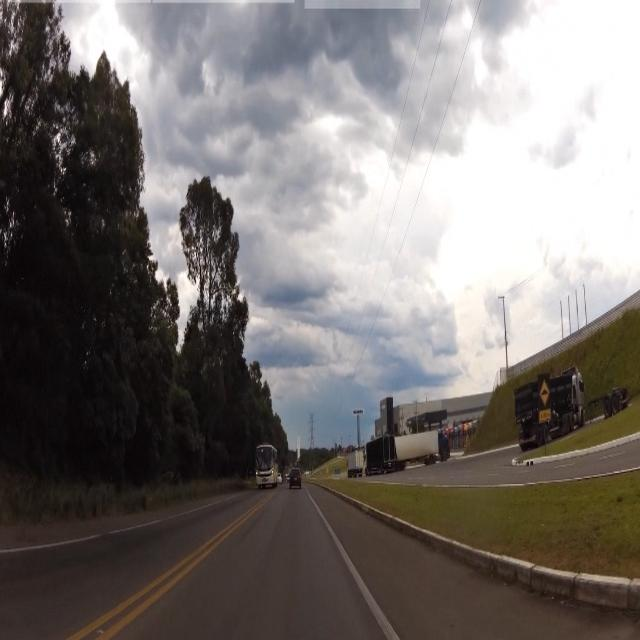A-18: (540, 381, 550, 405)
